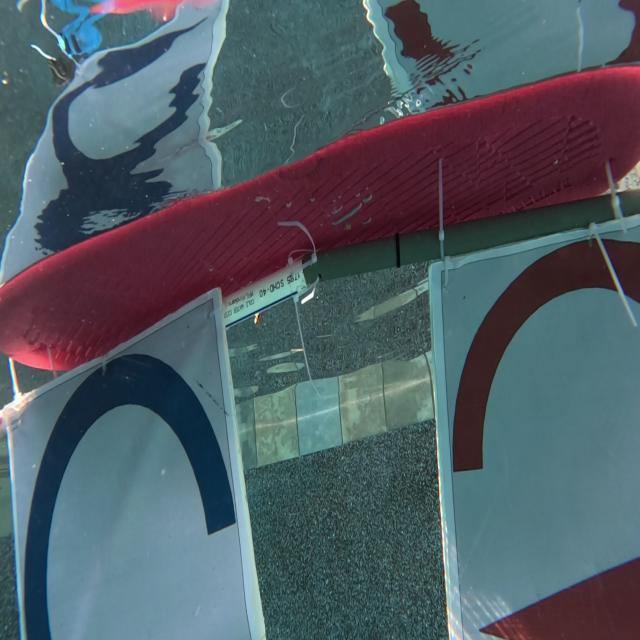blue_side: (11, 301, 242, 640)
red_side: (442, 253, 640, 640)
